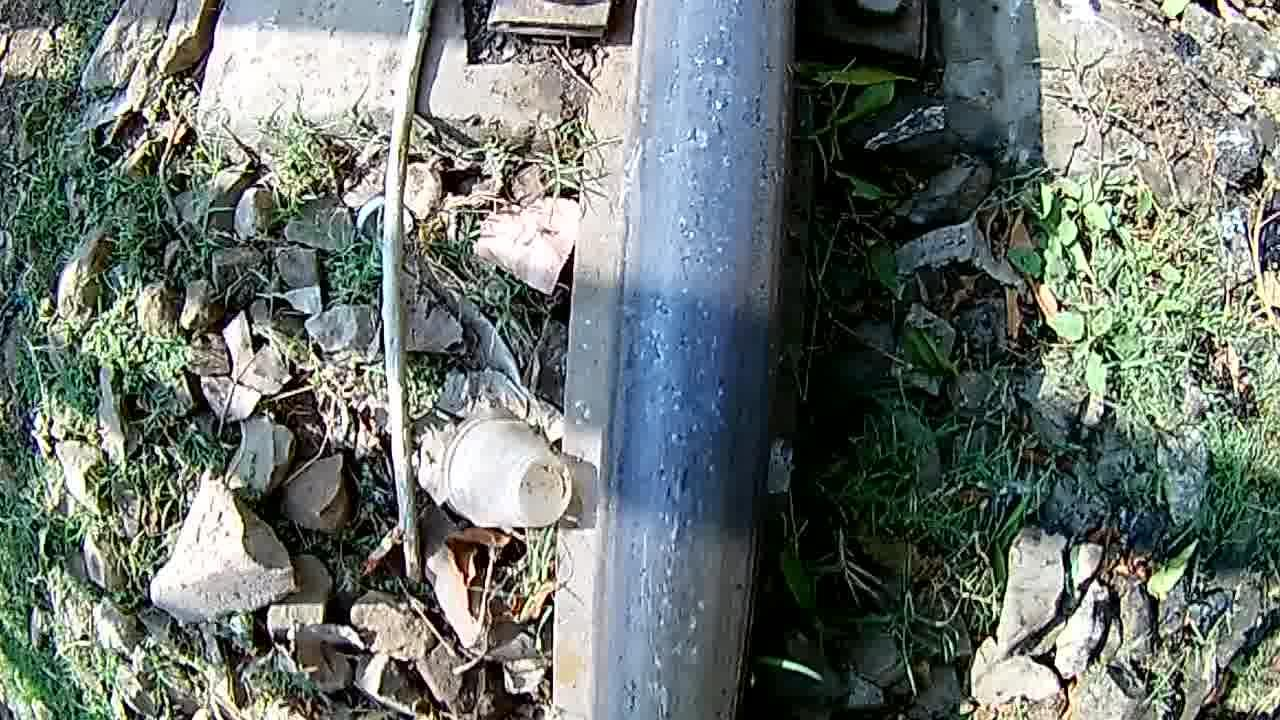clip_missing: (597, 0, 804, 720)
